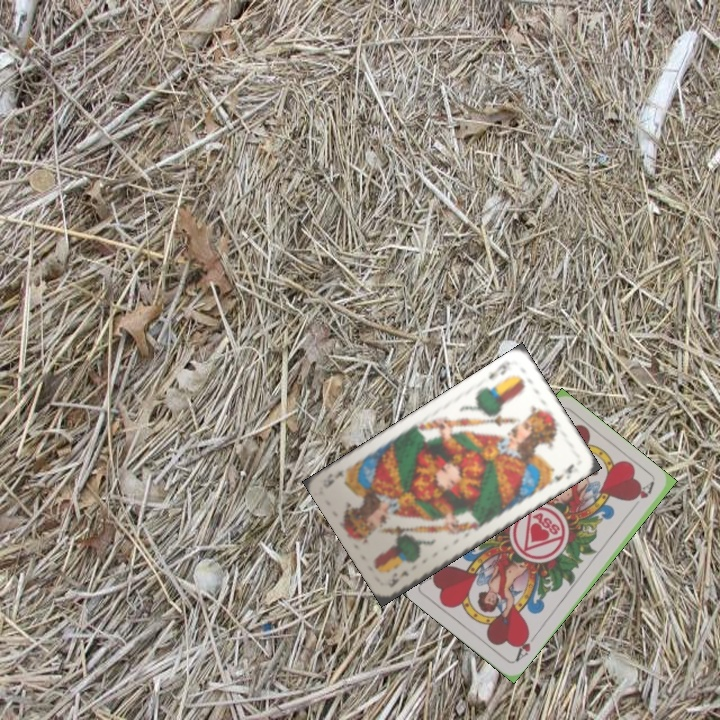EK: (485, 357, 514, 382), (383, 566, 411, 590)
HA: (510, 628, 539, 665)
